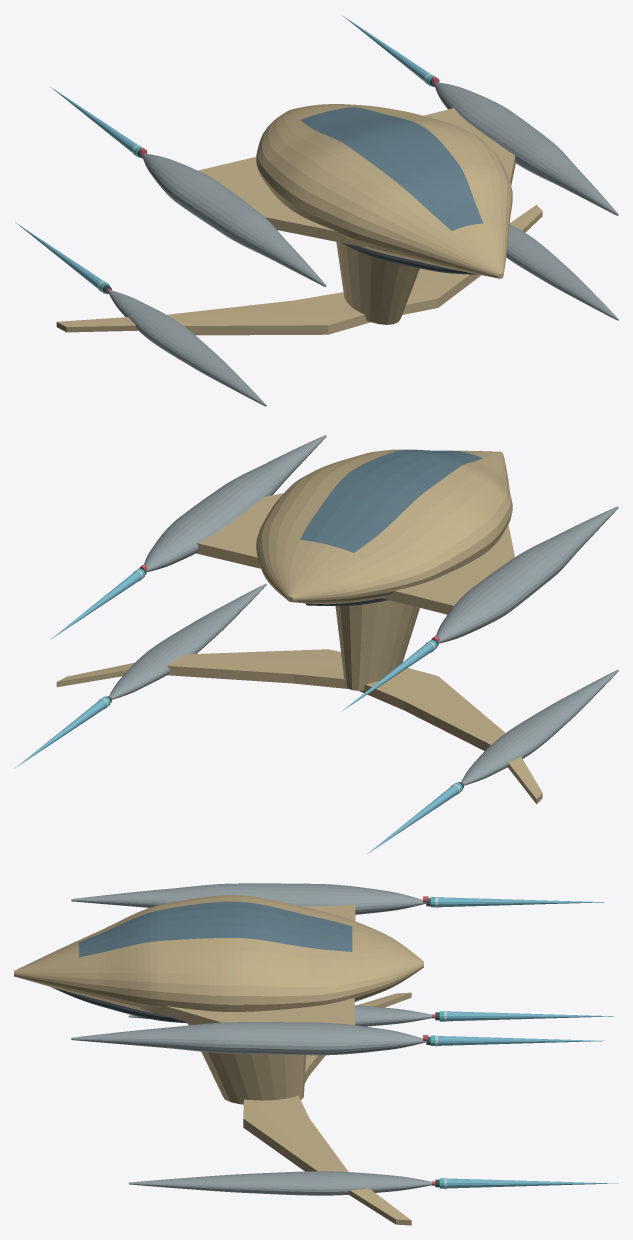
Rendered from arma_gold_flight.glb.
3 views of the same model, one above another, from view 1: azimuth 30°, elevation 25°; view 2: azimuth 150°, elevation 25°; view 3: azimuth 270°, elevation 25° (orthographic). The views are drawn at different scales.
Visible parts, largest first — view 1: material_0, material_3, material_1, material_7, material_2; view 2: material_0, material_3, material_1, material_7; view 3: material_0, material_3, material_1, material_7, material_2.
Boxes of the visible parts, bbox=[...] form: material_0: bbox=[56, 104, 542, 335]; material_3: bbox=[108, 82, 618, 406]; material_1: bbox=[300, 107, 482, 230]; material_7: bbox=[15, 15, 430, 288]; material_2: bbox=[102, 79, 477, 293]; material_0: bbox=[56, 449, 542, 804]; material_3: bbox=[109, 435, 618, 785]; material_1: bbox=[300, 449, 482, 552]; material_7: bbox=[15, 571, 458, 853]; material_0: bbox=[14, 895, 423, 1225]; material_3: bbox=[71, 883, 431, 1195]; material_1: bbox=[79, 901, 352, 957]; material_7: bbox=[438, 897, 618, 1188]; material_2: bbox=[51, 898, 439, 1187].
Size of the model in its own units: 4.8 by 1.91 by 5.39.
